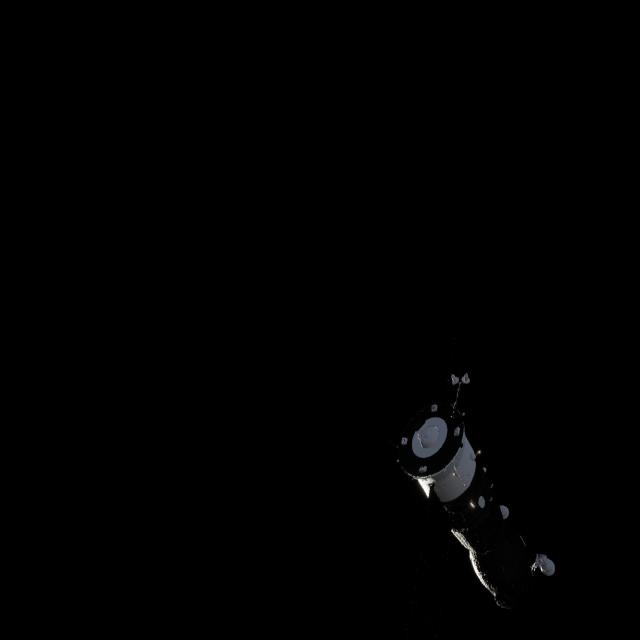Satellites revolving around earth: (393, 366, 557, 614)
